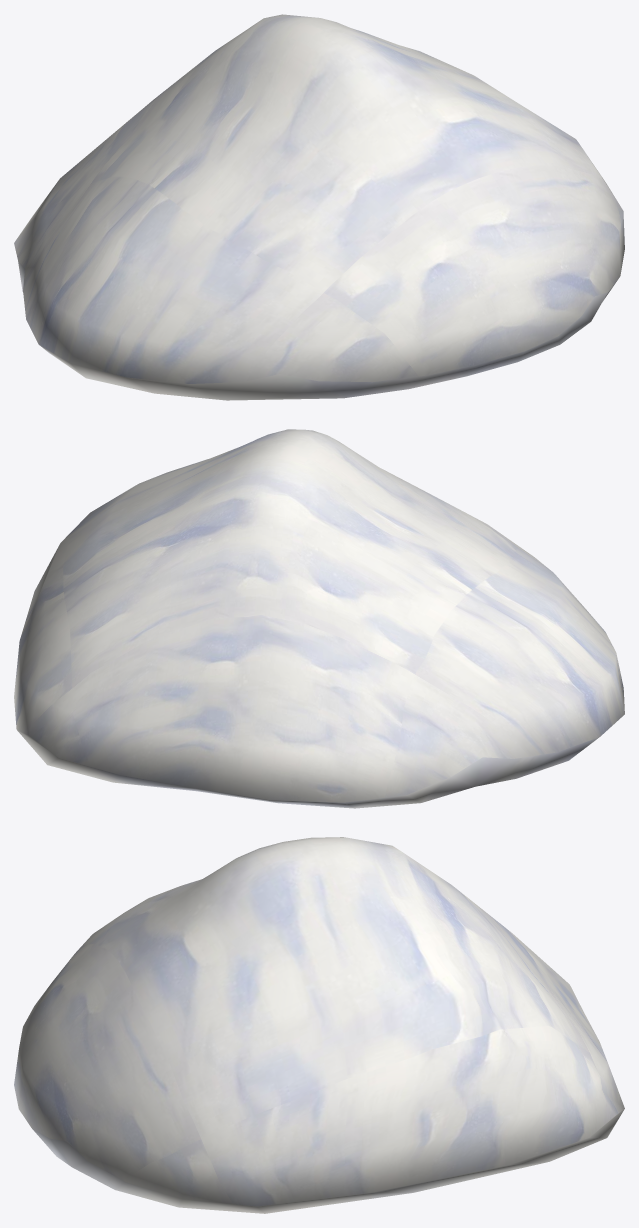
The model's file is snowrockmedium.fbx.
3 views of the same model, one above another, from view 1: azimuth 30°, elevation 25°; view 2: azimuth 150°, elevation 25°; view 3: azimuth 270°, elevation 25° (orthographic). The views are drawn at different scales.
Visible parts, largest first — view 1: medium; view 2: medium; view 3: medium.
Boxes of the visible parts, x1,y1,x2,y2 form: medium: [14, 14, 624, 400]; medium: [14, 429, 624, 808]; medium: [14, 837, 624, 1213].
Size of the model in its own units: 9.92 by 4.47 by 9.25.
1 material, 1 textured.
